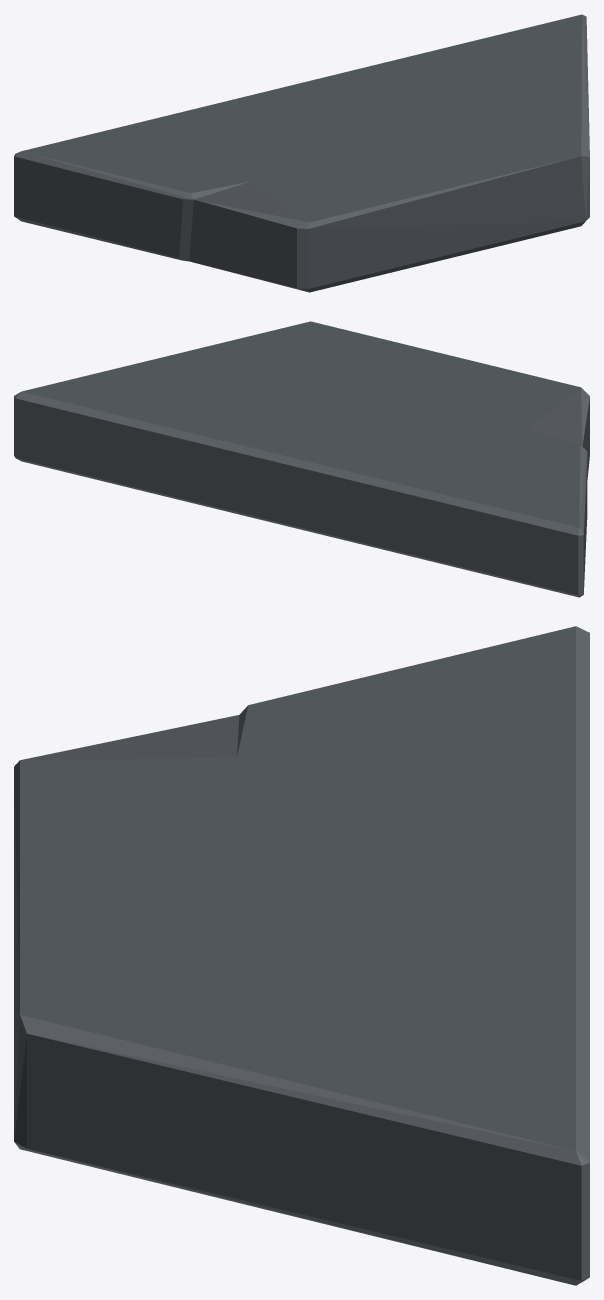
The model's file is MCastle_SmallTurret_Floor_01.FBX.
The picture shows the model from 3 angles, top to bottom: view 1: azimuth 30°, elevation 25°; view 2: azimuth 150°, elevation 25°; view 3: azimuth 270°, elevation 25°; orthographic projection. The views are drawn at different scales.
Visible parts, largest first — view 1: MCastle_SmallTurret_Floor_01_LOD0; view 2: MCastle_SmallTurret_Floor_01_LOD0; view 3: MCastle_SmallTurret_Floor_01_LOD0.
Boxes of the visible parts, <box> form: MCastle_SmallTurret_Floor_01_LOD0: <box>14,14,589,292</box>; MCastle_SmallTurret_Floor_01_LOD0: <box>14,321,589,597</box>; MCastle_SmallTurret_Floor_01_LOD0: <box>14,626,589,1285</box>.
Size of what is drawn, in the model's own units: 4.27 by 0.5 by 1.94.
